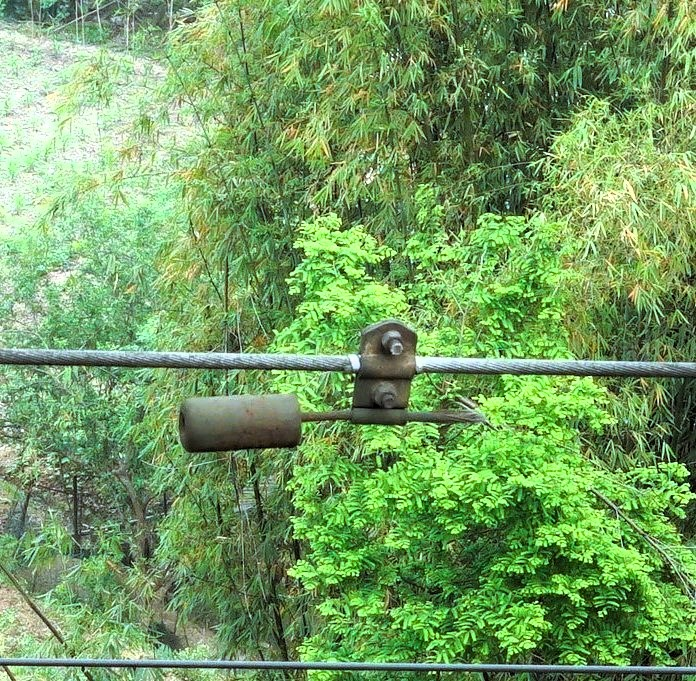Damage of shockproof hammer: (172, 309, 509, 468)
